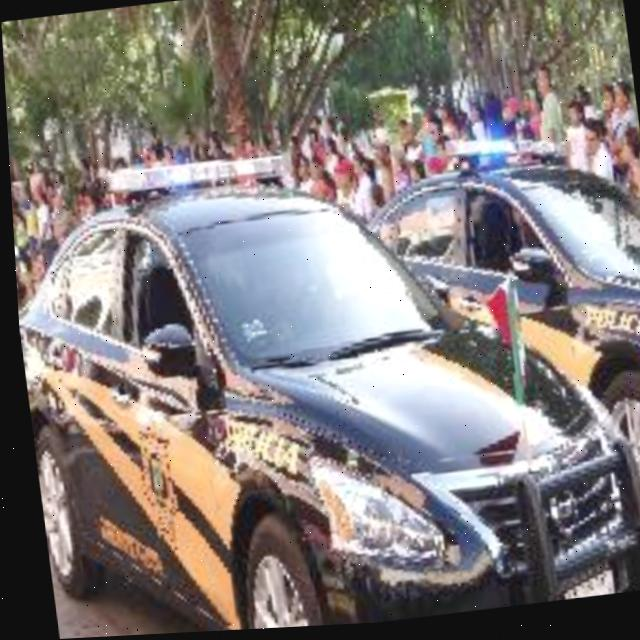emergency: (20, 126, 607, 639), (346, 118, 640, 394)
